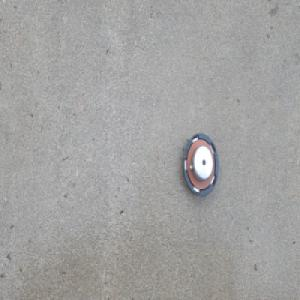FuelCap: (180, 130, 219, 198)
